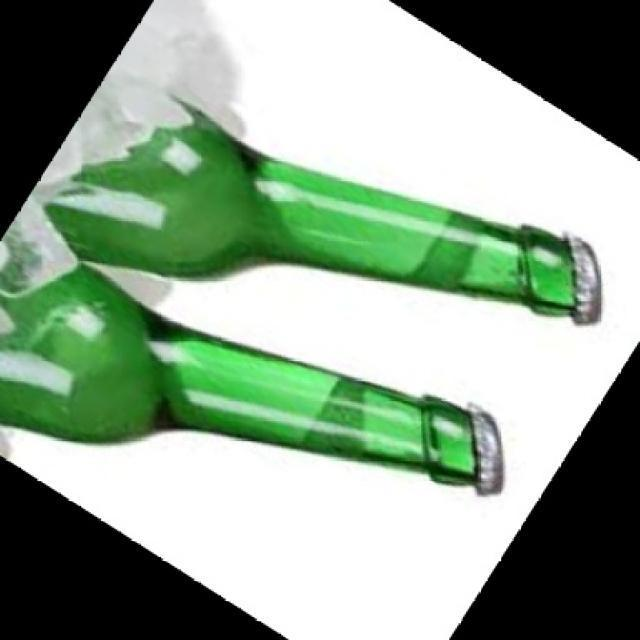Glass: (0, 223, 504, 497), (42, 93, 604, 326)
